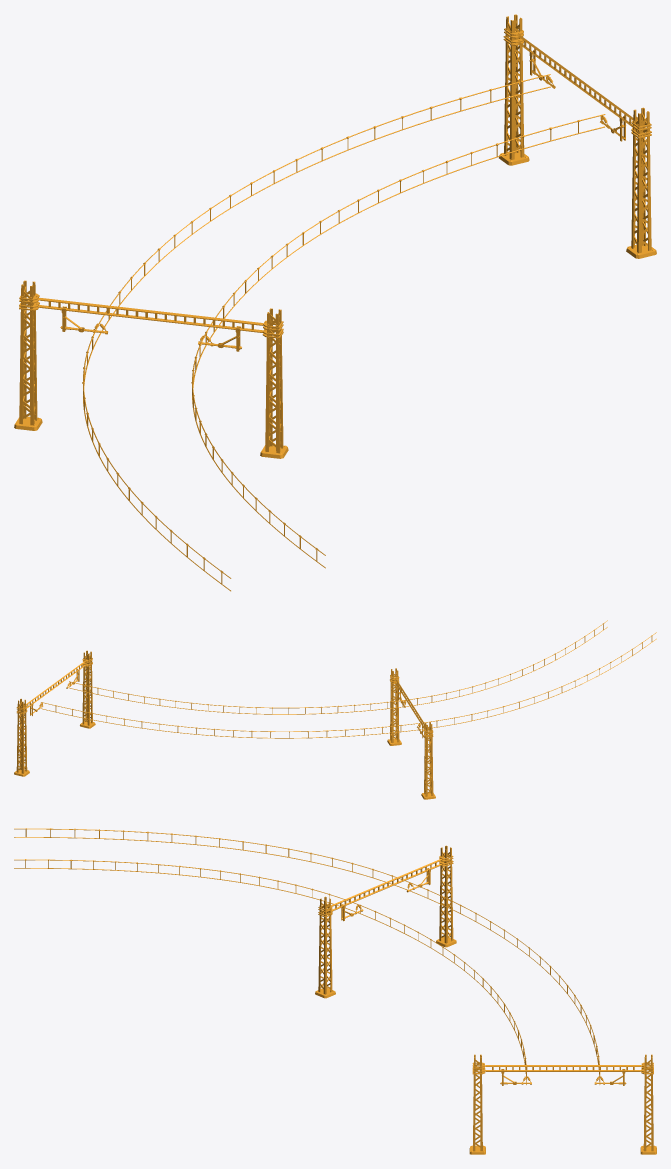
File: SM_Train_Wiring_Turn_Double.fbx
3 renders of one model, top to bottom at view 1: azimuth 30°, elevation 25°; view 2: azimuth 150°, elevation 25°; view 3: azimuth 270°, elevation 25°, orthographic. The views are drawn at different scales.
Visible parts, largest first — view 1: SM_Train_Wiring_Turn_Double; view 2: SM_Train_Wiring_Turn_Double; view 3: SM_Train_Wiring_Turn_Double.
Part boxes in pixels (x1,y1,x2,y2): SM_Train_Wiring_Turn_Double: [14, 14, 656, 591]; SM_Train_Wiring_Turn_Double: [14, 620, 656, 799]; SM_Train_Wiring_Turn_Double: [14, 828, 656, 1154].
Bounding box in the file's own units: 48.74 × 8.58 × 52.67.
